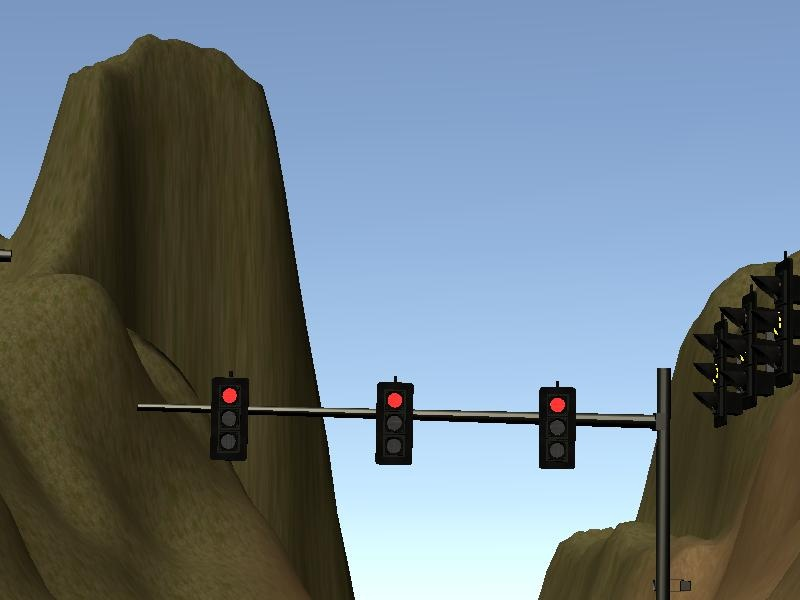traffic_light_red: (186, 370, 652, 472)
